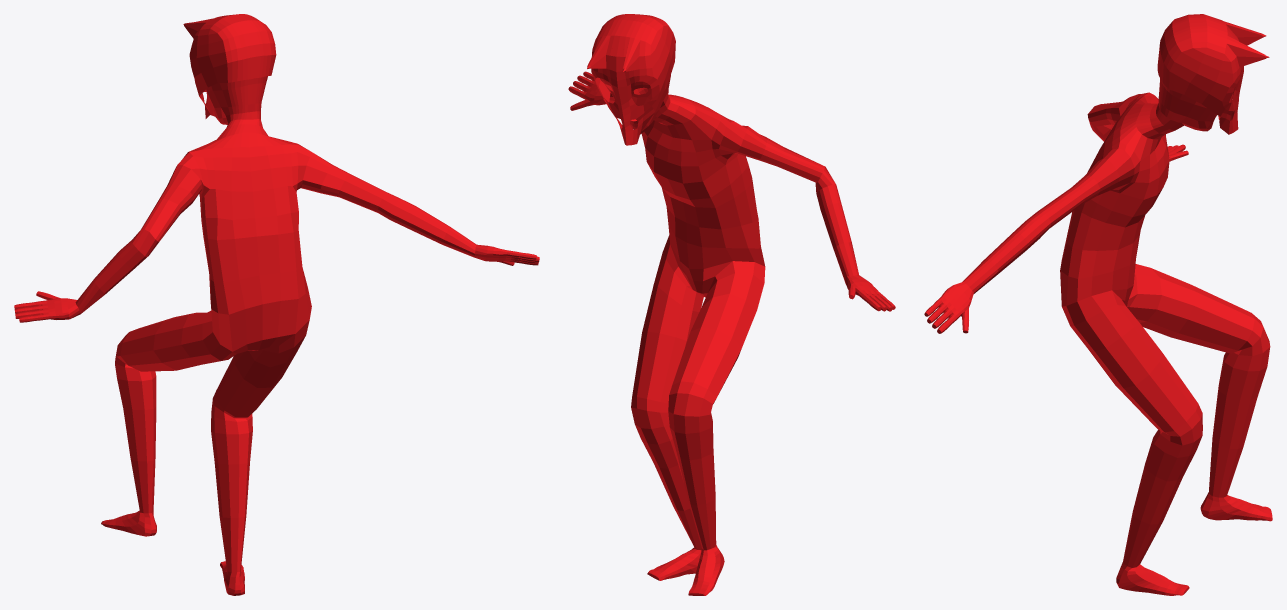
The model's file is saltoadelanteE_000128.obj.
3 renders of one model, left to right at view 1: azimuth 30°, elevation 25°; view 2: azimuth 150°, elevation 25°; view 3: azimuth 270°, elevation 25°, orthographic. The views are drawn at different scales.
Parts seen in each view (by area): view 1: Plane.002_Plane.001; view 2: Plane.002_Plane.001; view 3: Plane.002_Plane.001.
Part boxes in pixels (bbox=[...]): Plane.002_Plane.001: bbox=[14, 14, 539, 595]; Plane.002_Plane.001: bbox=[568, 14, 895, 595]; Plane.002_Plane.001: bbox=[924, 14, 1272, 595].
Size of the model in its own units: 5.12 by 6.39 by 3.45.
